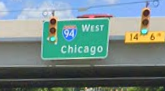1: (127, 32, 133, 41)
4: (132, 31, 140, 42)
6: (147, 31, 156, 42)
overheadsign: (124, 30, 164, 43)
